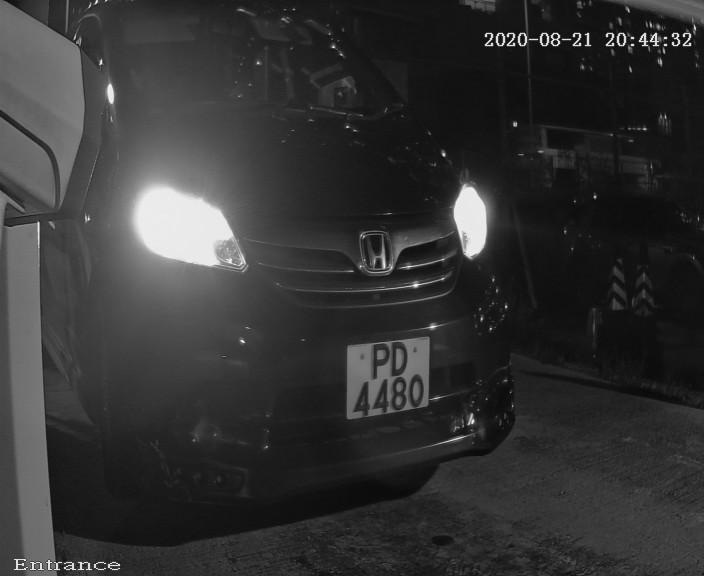License Plate: (337, 327, 441, 433)
